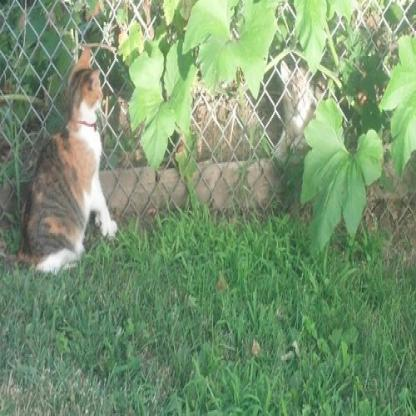Target: (17, 48, 117, 275)
